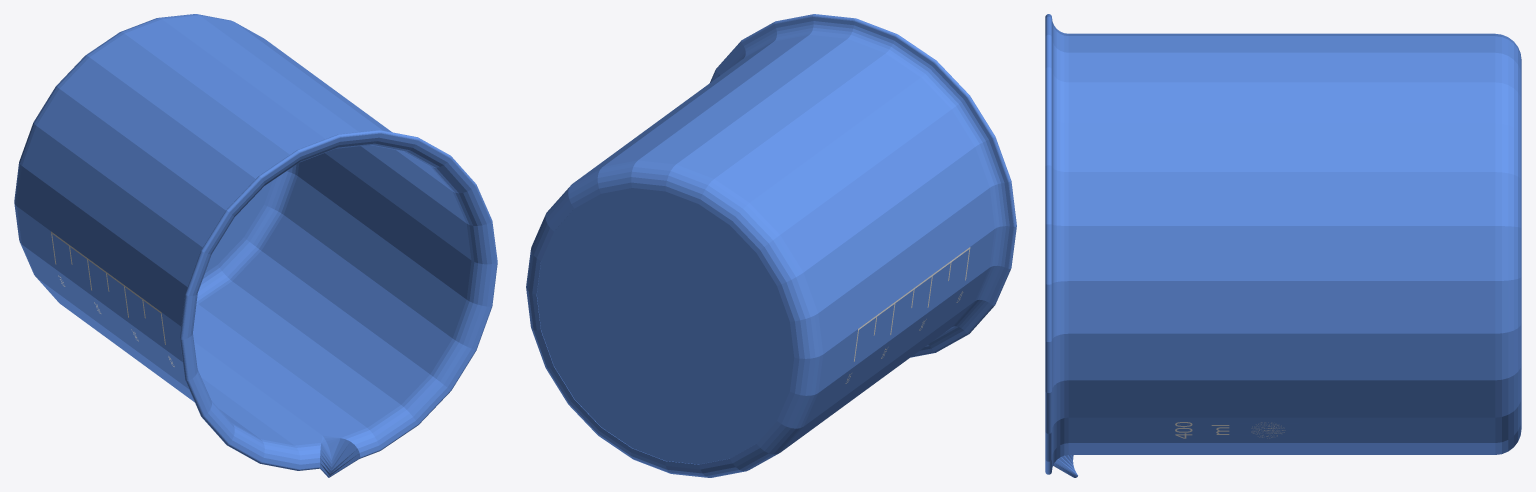
3 views of the same model, side by side, from view 1: azimuth 30°, elevation 25°; view 2: azimuth 150°, elevation 25°; view 3: azimuth 270°, elevation 25° (orthographic). The views are drawn at different scales.
Visible parts, largest first — view 1: beaker improved; view 2: beaker improved; view 3: beaker improved.
Part boxes in pixels (x1=…): beaker improved: x1=14, y1=14, x2=497, y2=477; beaker improved: x1=526, y1=14, x2=1016, y2=477; beaker improved: x1=1045, y1=14, x2=1521, y2=477.
Bounding box in the file's own units: 4.36 × 4.61 × 4.49.
